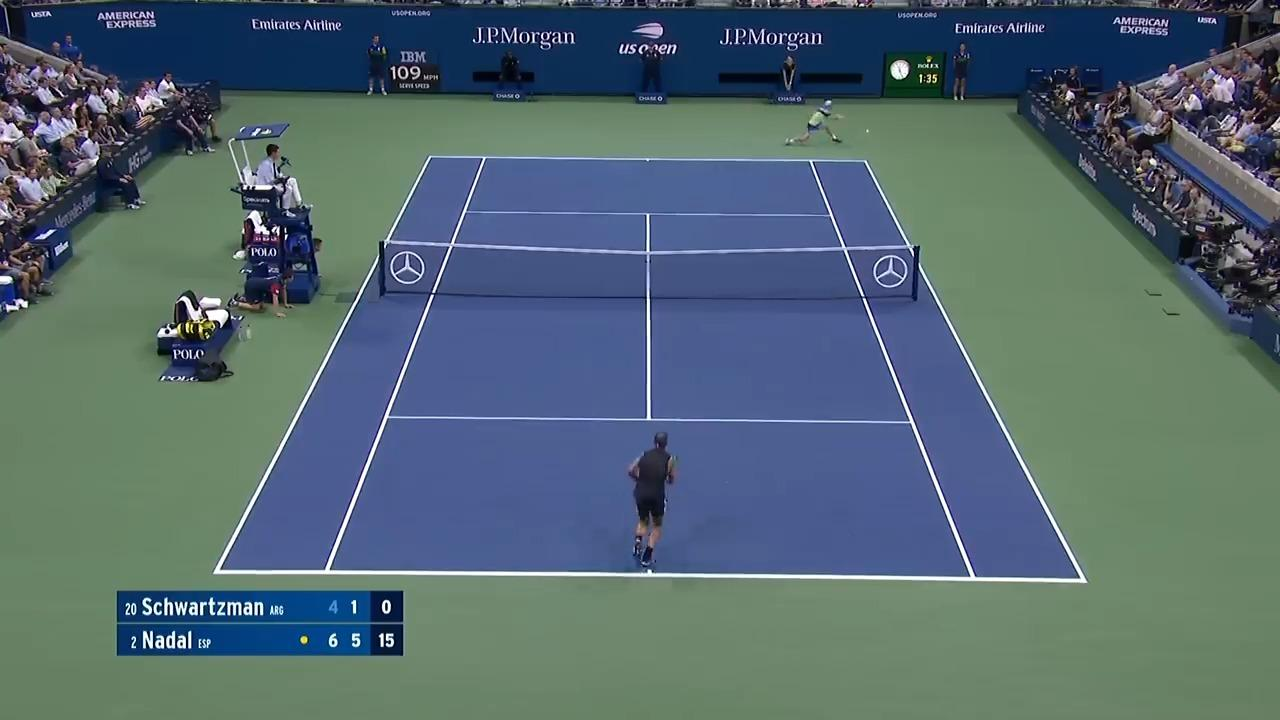tennis ball: (862, 127, 872, 139)
